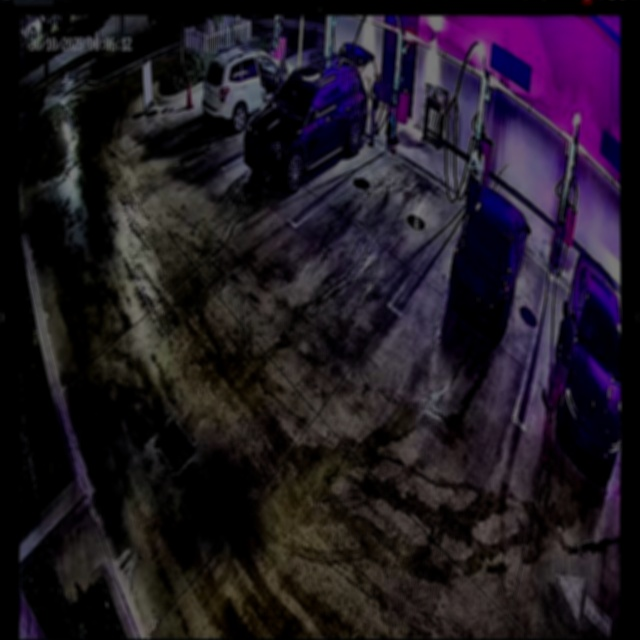Car: (241, 57, 372, 197), (451, 189, 532, 338)
